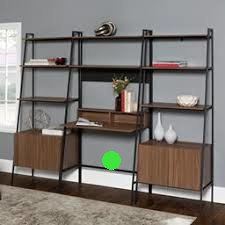focus: (99, 148, 125, 174)
